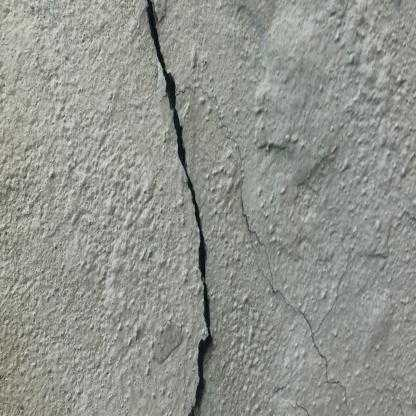crack: (143, 7, 215, 413)
